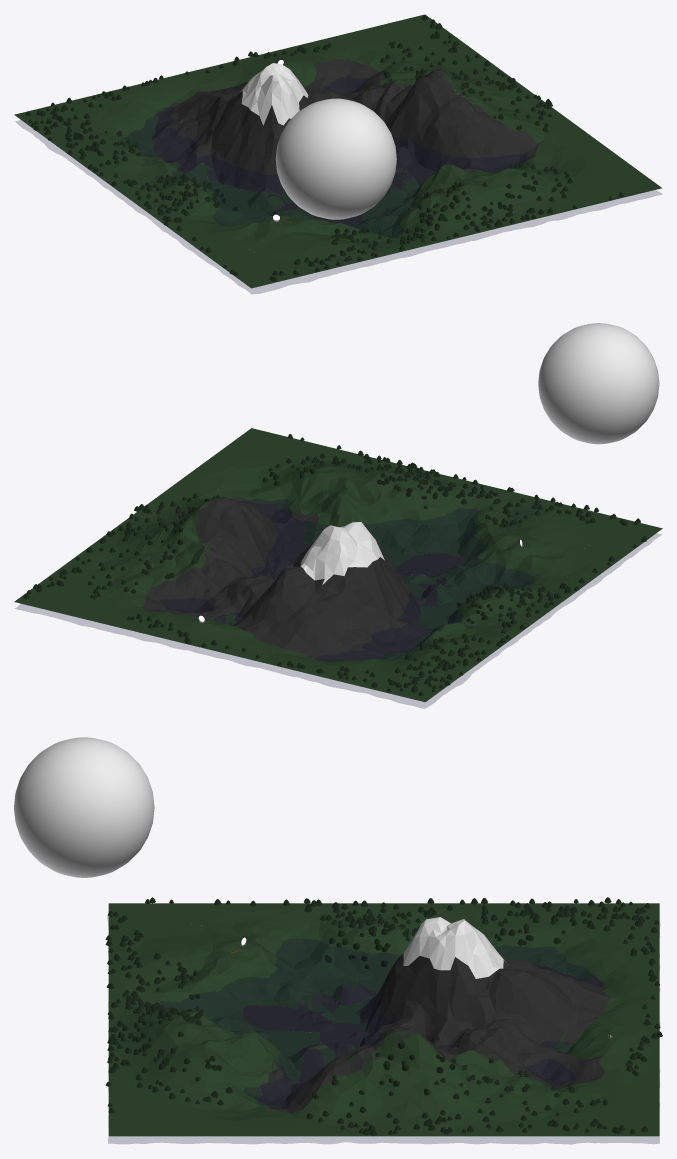
File: forest3.1.glb
3 views of the same model, one above another, from view 1: azimuth 30°, elevation 25°; view 2: azimuth 150°, elevation 25°; view 3: azimuth 270°, elevation 25° (orthographic). The views are drawn at different scales.
Visible parts, largest first — view 1: Landscape.001, Landscape_plane.001, sun; view 2: Landscape.001, Landscape_plane.001, sun; view 3: Landscape.001, Landscape_plane.001, sun.
Part boxes in pixels (box(x1,y1,x2,y2)): Landscape.001: box(14, 14, 661, 288); Landscape_plane.001: box(16, 76, 661, 293); sun: box(275, 98, 396, 219); Landscape.001: box(14, 428, 662, 702); Landscape_plane.001: box(15, 498, 661, 708); sun: box(538, 323, 659, 444); Landscape.001: box(108, 903, 659, 1136); Landscape_plane.001: box(107, 916, 660, 1144); sun: box(14, 737, 154, 877).
Bounding box in the file's own units: 4.1 × 1.84 × 4.77.
